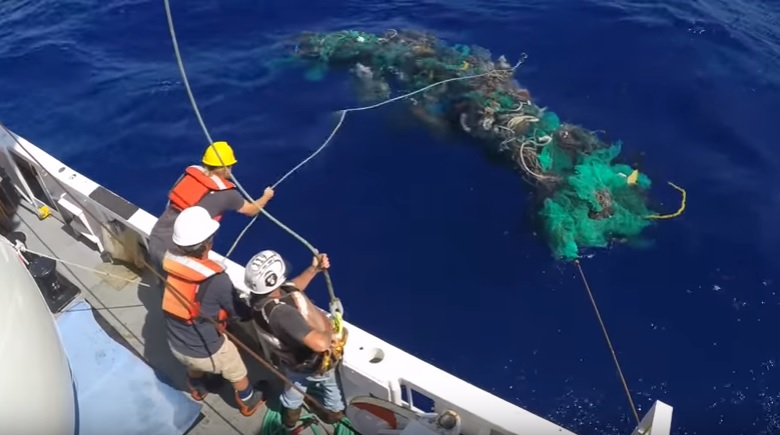litter: (285, 23, 691, 256)
